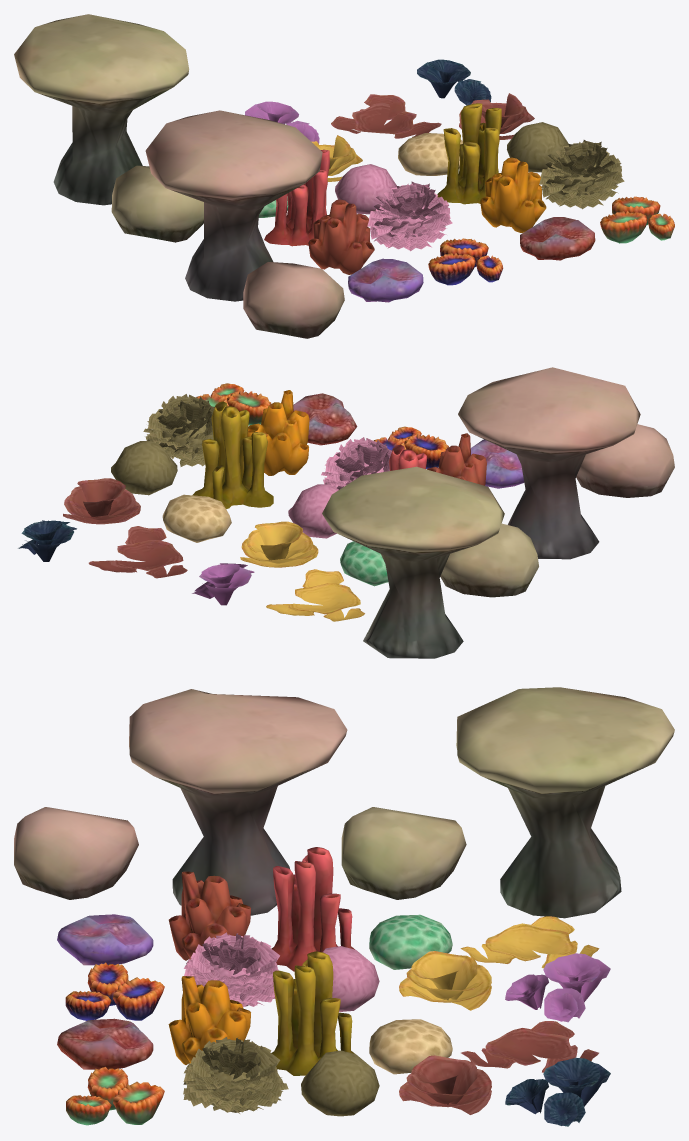
Rendered from soft-coral-set.glb.
3 views of the same model, one above another, from view 1: azimuth 30°, elevation 25°; view 2: azimuth 150°, elevation 25°; view 3: azimuth 270°, elevation 25° (orthographic). The views are drawn at different scales.
Visible parts, largest first — view 1: Coral02_low1_M_coral_03_0, Coral02_low_M_coral_02_0, Coral01_low_M_coral_02_0, Coral01_low1_M_coral_03_0, coral11_M_coral_0, coral23_M_coral_01_0, coral14_M_coral_0, coral10_M_coral_0, coral19_M_coral_01_0, coral25_M_coral_01_0, coral17_M_coral_0, coral20_M_coral_01_0 (+10 smaller); view 2: Coral02_low1_M_coral_03_0, Coral02_low_M_coral_02_0, coral11_M_coral_0, Coral01_low1_M_coral_03_0, Coral01_low_M_coral_02_0, coral14_M_coral_0, coral10_M_coral_0, coral28_M_coral_01_0, coral16_M_coral_0, coral24_M_coral_01_0, coral17_M_coral_0, coral15_M_coral_0 (+12 smaller); view 3: Coral02_low1_M_coral_03_0, Coral02_low_M_coral_02_0, Coral01_low1_M_coral_03_0, Coral01_low_M_coral_02_0, coral11_M_coral_0, coral25_M_coral_01_0, coral14_M_coral_0, coral23_M_coral_01_0, coral19_M_coral_01_0, coral10_M_coral_0, coral21_M_coral_01_0, coral18_M_coral_0 (+12 smaller).
Part boxes in pixels (bbox=[...]): Coral02_low1_M_coral_03_0: bbox=[14, 14, 189, 205]; Coral02_low_M_coral_02_0: bbox=[145, 110, 322, 301]; Coral01_low_M_coral_02_0: bbox=[243, 262, 344, 338]; Coral01_low1_M_coral_03_0: bbox=[111, 165, 203, 242]; coral11_M_coral_0: bbox=[437, 103, 501, 204]; coral23_M_coral_01_0: bbox=[367, 181, 452, 251]; coral14_M_coral_0: bbox=[539, 140, 624, 209]; coral10_M_coral_0: bbox=[480, 157, 546, 232]; coral19_M_coral_01_0: bbox=[308, 199, 374, 274]; coral25_M_coral_01_0: bbox=[264, 149, 329, 246]; coral17_M_coral_0: bbox=[331, 94, 441, 138]; coral20_M_coral_01_0: bbox=[348, 258, 423, 302]; Coral02_low1_M_coral_03_0: bbox=[322, 466, 504, 658]; Coral02_low_M_coral_02_0: bbox=[458, 367, 640, 559]; coral11_M_coral_0: bbox=[192, 401, 273, 509]; Coral01_low1_M_coral_03_0: bbox=[440, 523, 538, 597]; Coral01_low_M_coral_02_0: bbox=[576, 424, 674, 497]; coral14_M_coral_0: bbox=[143, 394, 214, 466]; coral10_M_coral_0: bbox=[247, 390, 309, 475]; coral28_M_coral_01_0: bbox=[240, 521, 318, 567]; coral16_M_coral_0: bbox=[63, 478, 140, 524]; coral24_M_coral_01_0: bbox=[266, 569, 364, 621]; coral17_M_coral_0: bbox=[88, 526, 187, 578]; coral15_M_coral_0: bbox=[111, 441, 177, 495]; Coral02_low1_M_coral_03_0: bbox=[456, 687, 674, 918]; Coral02_low_M_coral_02_0: bbox=[129, 689, 347, 915]; Coral01_low1_M_coral_03_0: bbox=[341, 807, 466, 899]; Coral01_low_M_coral_02_0: bbox=[14, 807, 138, 899]; coral11_M_coral_0: bbox=[271, 951, 354, 1075]; coral25_M_coral_01_0: bbox=[271, 847, 354, 971]; coral14_M_coral_0: bbox=[183, 1037, 288, 1113]; coral23_M_coral_01_0: bbox=[184, 932, 279, 1007]; coral19_M_coral_01_0: bbox=[168, 871, 250, 960]; coral10_M_coral_0: bbox=[168, 976, 250, 1064]; coral21_M_coral_01_0: bbox=[505, 953, 610, 1022]; coral18_M_coral_0: bbox=[505, 1057, 610, 1126].
Size of the model in its own units: 1 by 0.3131 by 0.9936.
4 materials, 4 textured.
